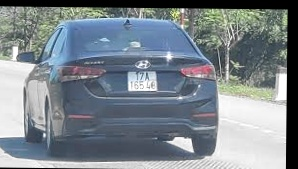Bien-so: (136, 69, 166, 91)
